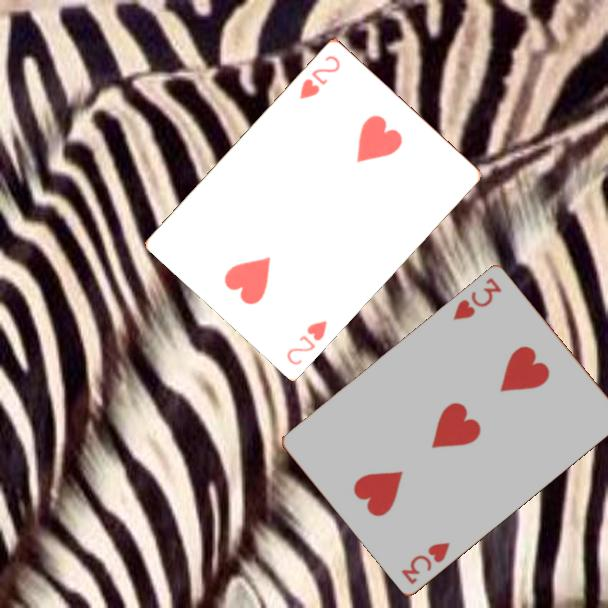h02: (295, 51, 343, 102), (283, 316, 330, 368)
h03: (397, 538, 453, 587), (450, 274, 505, 323)
